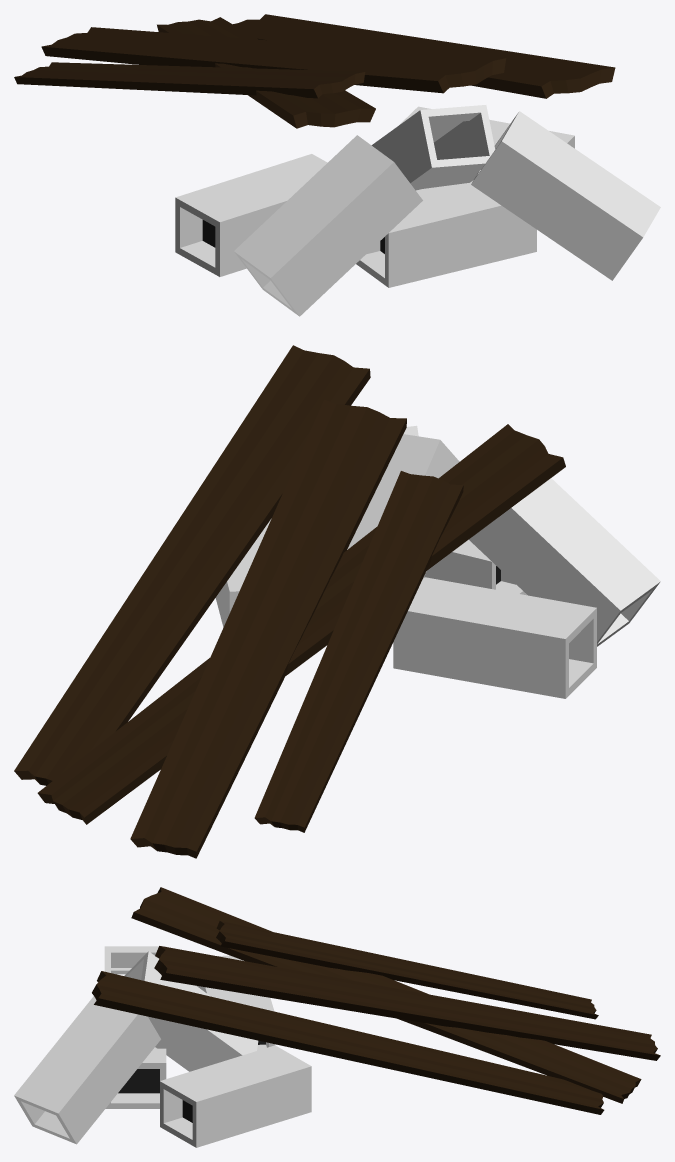
File: Jump.fbx
3 renders of one model, top to bottom at view 1: azimuth 30°, elevation 25°; view 2: azimuth 150°, elevation 25°; view 3: azimuth 270°, elevation 25°, orthographic. The views are drawn at different scales.
Visible parts, largest first — view 1: Cube.004; view 2: Cube.004; view 3: Cube.004.
Part boxes in pixels (<box>): Cube.004: <box>14,14,660,316</box>; Cube.004: <box>14,345,660,858</box>; Cube.004: <box>14,887,660,1147</box>.
Size of the model in its own units: 425 by 195 by 778.
